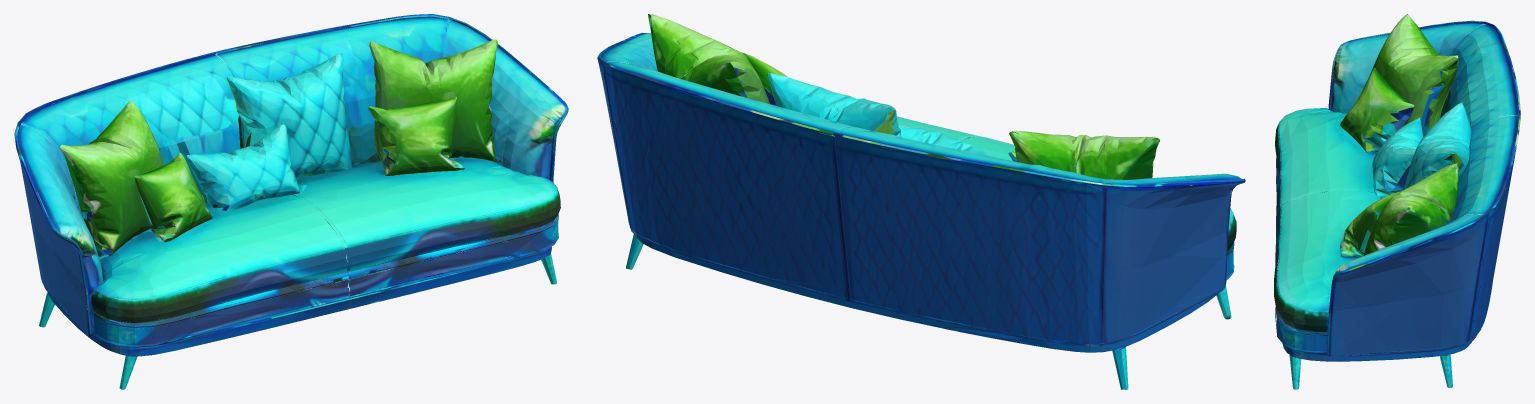
The model's file is edited_mesh.glb.
3 views of the same model, side by side, from view 1: azimuth 30°, elevation 25°; view 2: azimuth 150°, elevation 25°; view 3: azimuth 270°, elevation 25° (orthographic). The views are drawn at different scales.
Parts seen in each view (by area): view 1: solid_001_wire; view 2: solid_001_wire; view 3: solid_001_wire.
Part boxes in pixels (bbox=[...]): solid_001_wire: bbox=[14, 14, 568, 389]; solid_001_wire: bbox=[597, 14, 1245, 389]; solid_001_wire: bbox=[1274, 14, 1520, 389].
Bounding box in the file's own units: 2 × 0.7466 × 0.909.
Materials: 1 (1 with a texture image).
